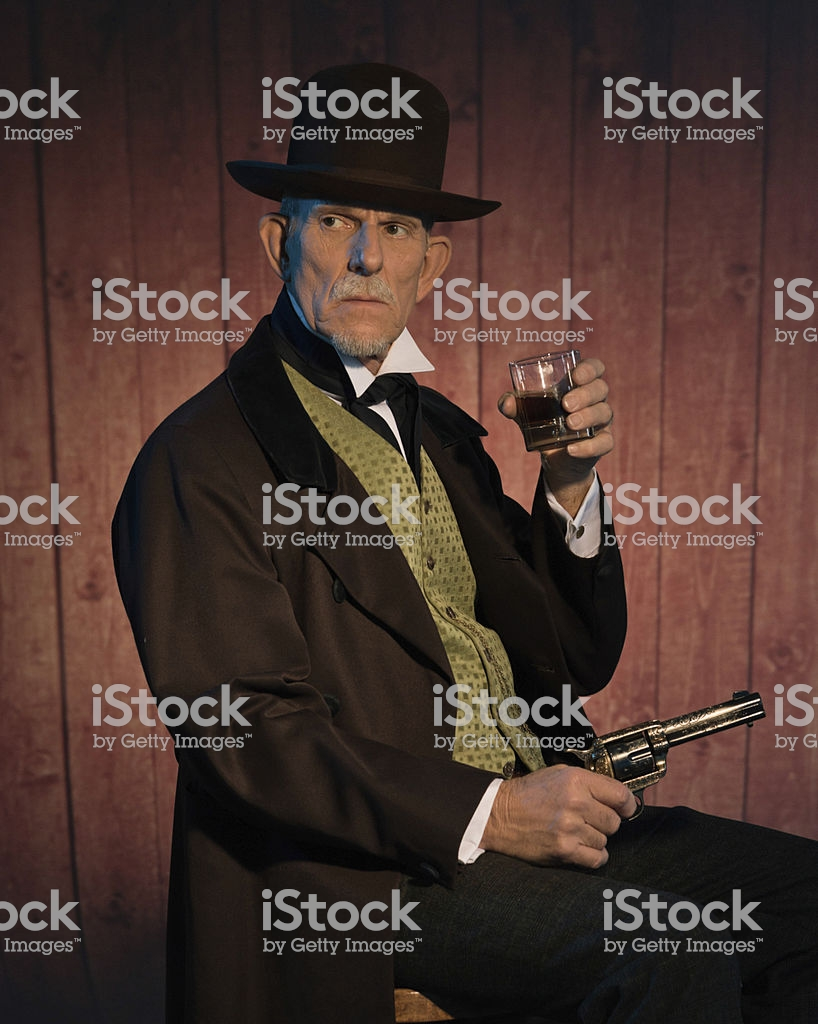Revolver: (522, 693, 782, 812)
